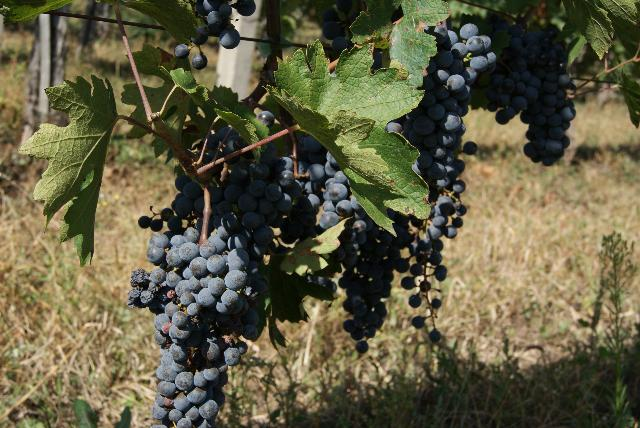grapes: (309, 24, 498, 354), (129, 228, 268, 428), (485, 14, 576, 166)
